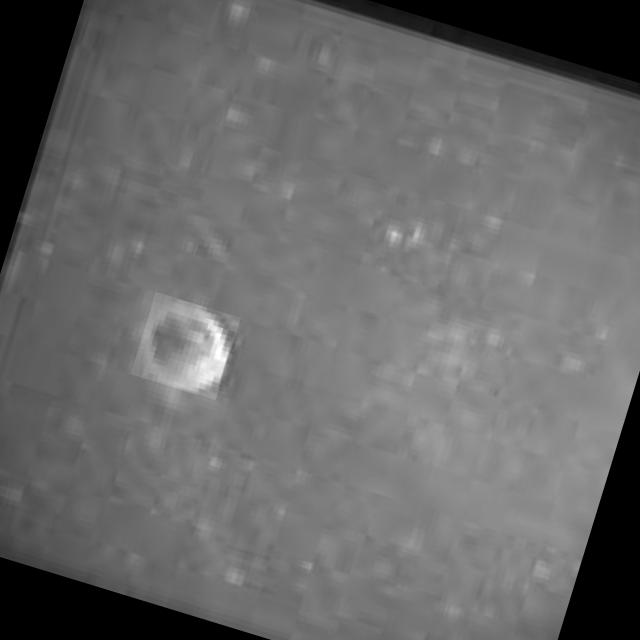crater: (130, 292, 240, 400)
